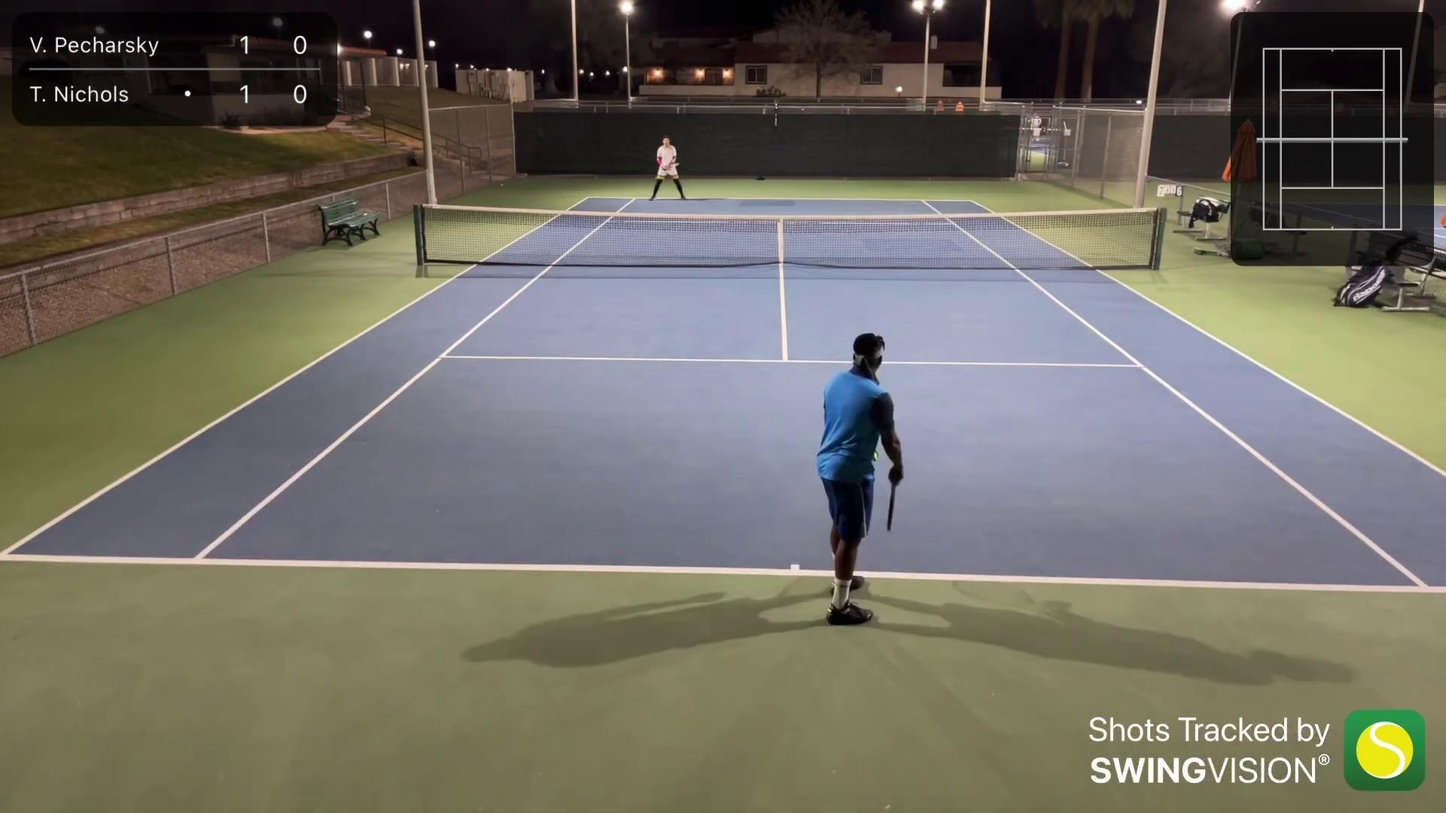ball: (870, 453, 883, 463)
